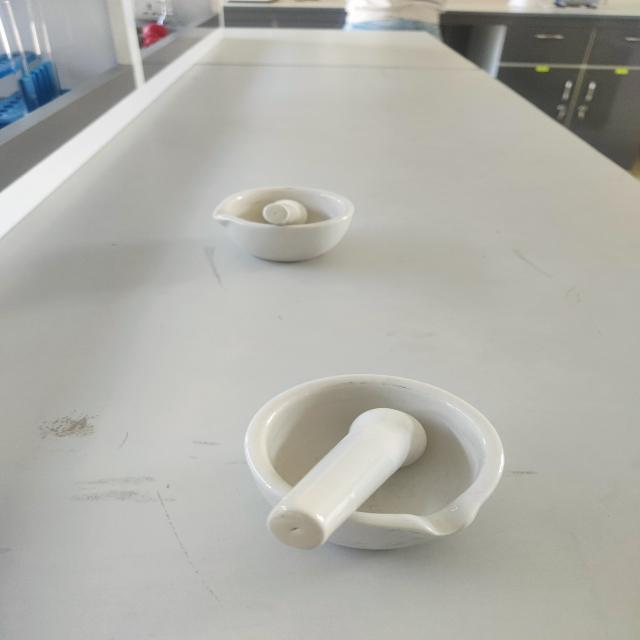Porcelain_Mortar Pestle: (199, 351, 551, 570), (175, 152, 398, 279)
